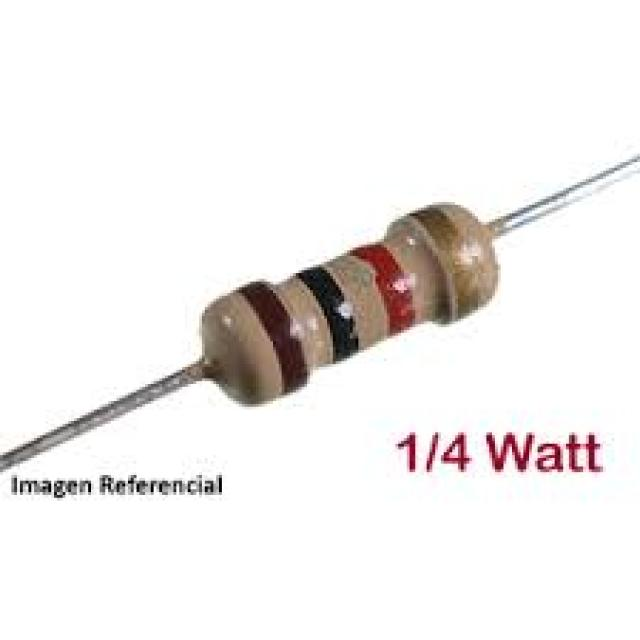Resistor: (197, 203, 493, 406)
